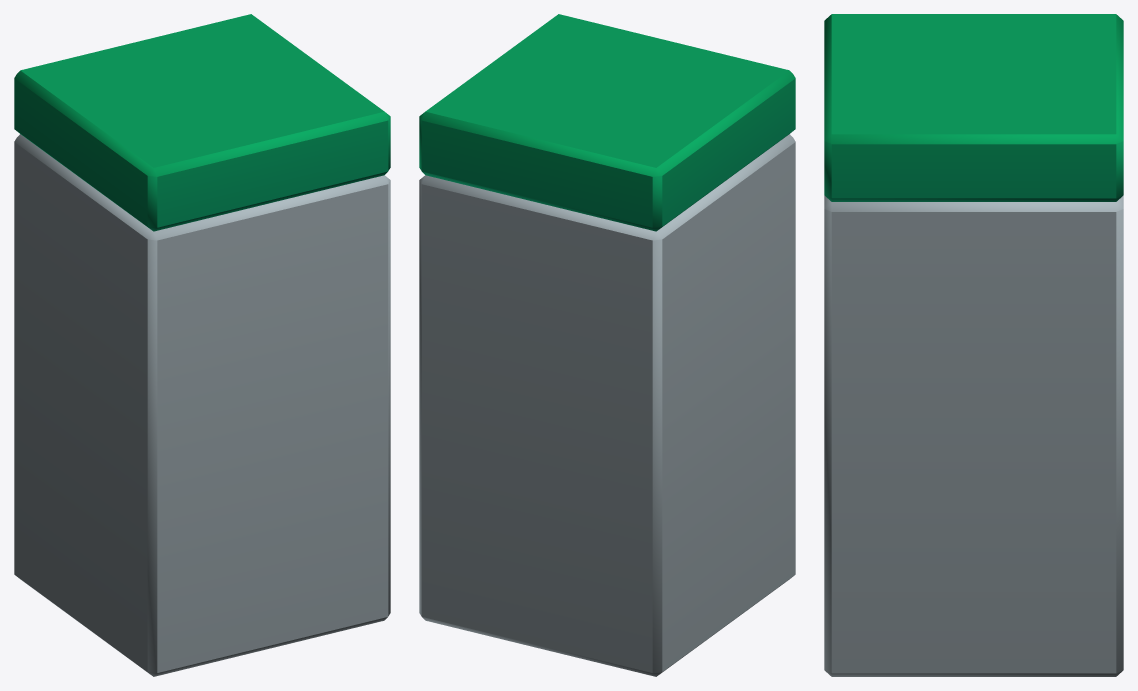
File: platform_2x2x4_green.glb
3 views of the same model, side by side, from view 1: azimuth 30°, elevation 25°; view 2: azimuth 150°, elevation 25°; view 3: azimuth 270°, elevation 25° (orthographic). The views are drawn at different scales.
Visible parts, largest first — view 1: platform_2x2x4_green; view 2: platform_2x2x4_green; view 3: platform_2x2x4_green.
Part boxes in pixels (box(x1,y1,x2,y2)): platform_2x2x4_green: box(14, 14, 390, 676); platform_2x2x4_green: box(419, 14, 795, 676); platform_2x2x4_green: box(824, 14, 1123, 676).
Bounding box in the file's own units: 2 × 4 × 2.
Materials: 1 (1 with a texture image).
